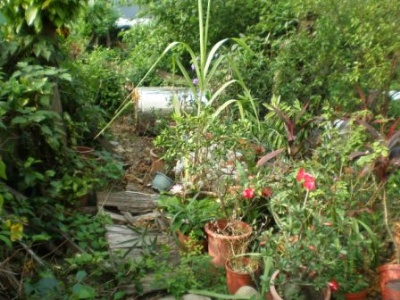bowl: (151, 170, 174, 194)
